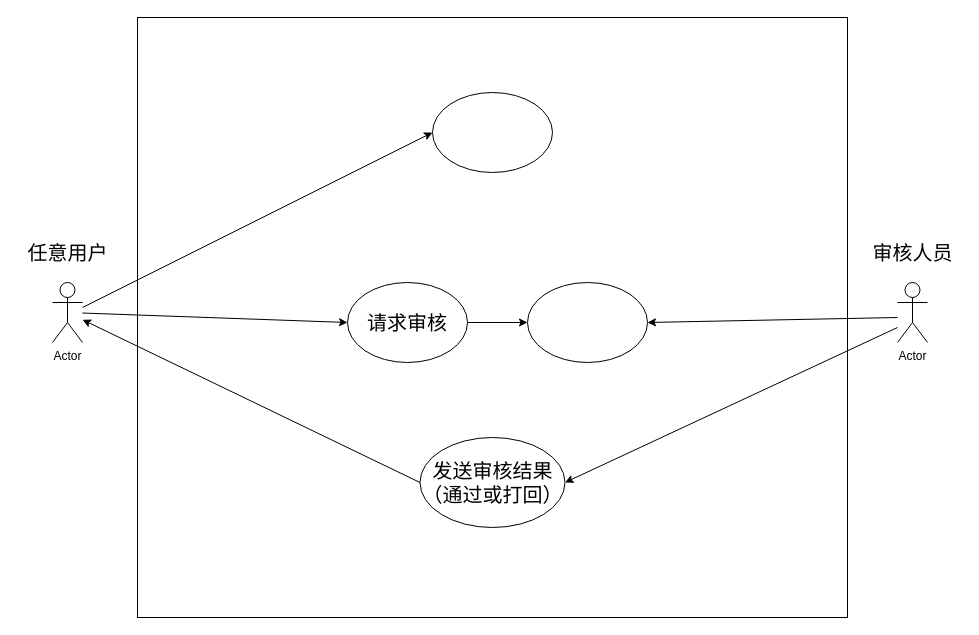
The diagram is 979 pixels wide and 635 high, and some of its shapes have lost their labels. The box of each missing label's shape, as (x1, y1, x2, y2) in pixels:
提交文件: (432, 92, 552, 172)
进行审核: (526, 282, 648, 362)
